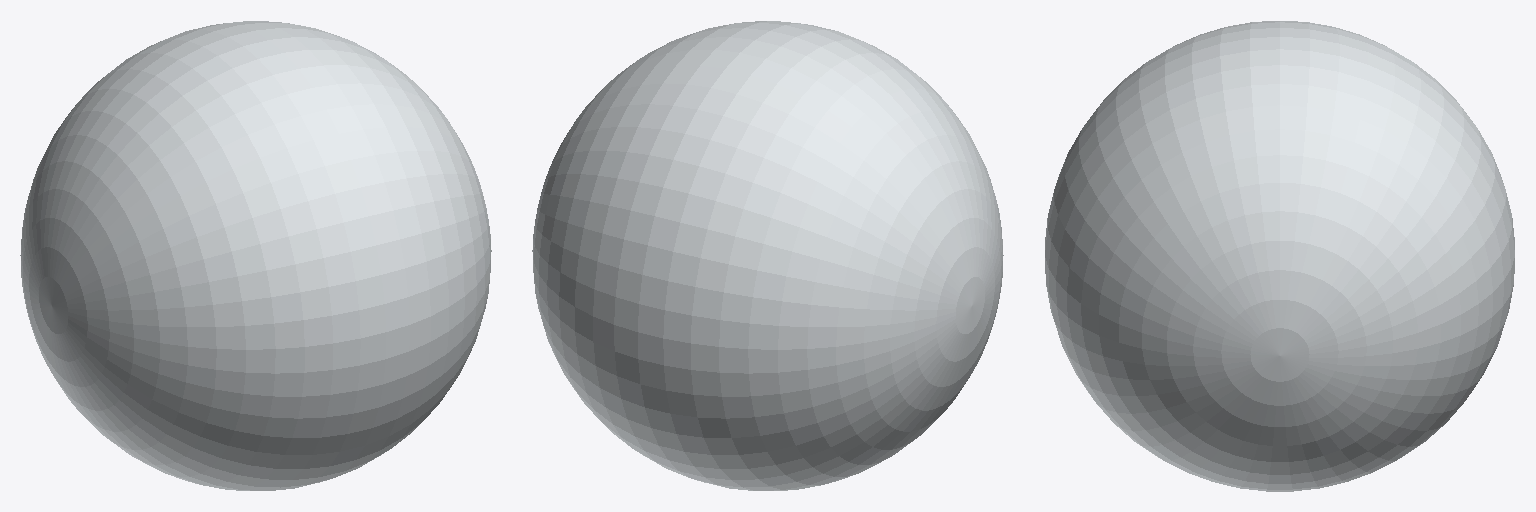
robot.urdf — golf_ball:
<robot
  name="golf_ball">
  <link
    name="golf_ball">
    <inertial>
      <origin
        xyz="0 -2.81194110964694E-35 -4.5924E-19"
        rpy="0 0 0" />
      <mass
        value="0.090478" />
      <inertia
        ixx="1.44764589477418E-05"
        ixy="0"
        ixz="0"
        iyy="1.44764589477418E-05"
        iyz="0"
        izz="1.44764589477418E-05" />
    </inertial>
    <visual>
      <origin
        xyz="0 0 0"
        rpy="1.5707963267949 0 0" />
      <geometry>
        <mesh
          filename="package://golf_ball/meshes/golf_ball.STL" />
      </geometry>
      <material
        name="">
        <color
          rgba="0.89804 0.91765 0.92941 1" />
      </material>
    </visual>
    <collision>
      <origin
        xyz="0 0 0"
        rpy="1.5707963267949 0 0" />
      <geometry>
        <mesh
          filename="package://golf_ball/meshes/golf_ball.STL" />
      </geometry>
    </collision>
  </link>
  <gazebo reference="golf_ball">
    <material>Gazebo/White</material>
    </gazebo>
    <!-- <gazebo>
    <static>true</static>
</gazebo> -->
</robot>

--- Facts derived from the render (not from the file) ---
3 views of the same robot in one strip: view 1: azimuth 30°, elevation 25°; view 2: azimuth 150°, elevation 25°; view 3: azimuth 270°, elevation 25° (orthographic).
Robot: golf_ball — 1 links, 0 joints (none); root link golf_ball; default pose: all joints at 0.
Links seen in each view (by area): view 1: golf_ball; view 2: golf_ball; view 3: golf_ball.
Link boxes in pixels (box(x1,y1,x2,y2)): golf_ball: box(20, 21, 491, 490); golf_ball: box(532, 21, 1003, 490); golf_ball: box(1045, 21, 1514, 491).
Bounding box of the posed robot: 0.04 × 0.0399 × 0.0399 m (x, y, z).
Meshes: 1 distinct files referenced, 1 mesh visuals loaded (1 binary STL).